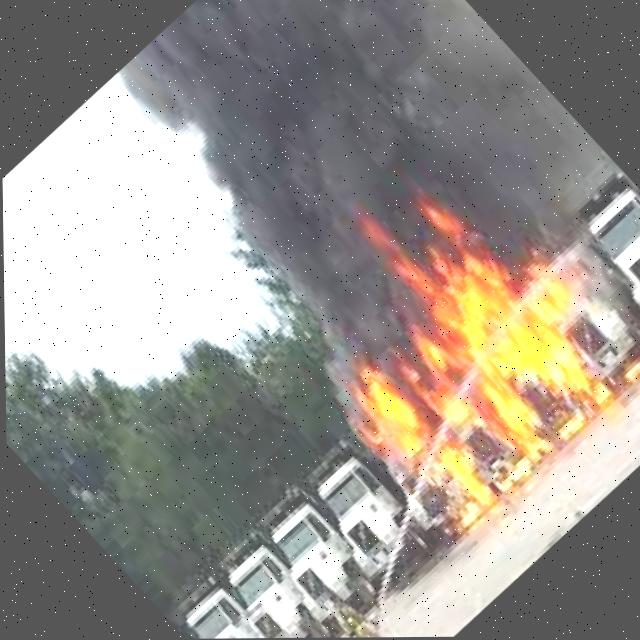Fire: (304, 187, 640, 529)
Smoke: (92, 0, 629, 405)
